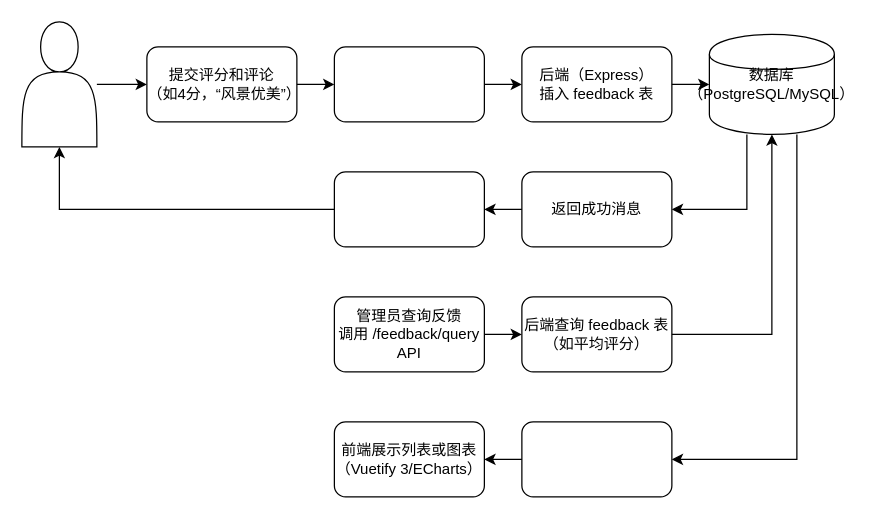
Some shapes in this 876 by 519 pixel diagram are drawn without their labels. Each missing label, with the centre of its shape:
前端显示成功提示: the point at 408,209
前端（Vue3） 调用 /feedback/add API: the point at 408,84
游客: the point at 59,84
返回反馈数据: the point at 596,459
